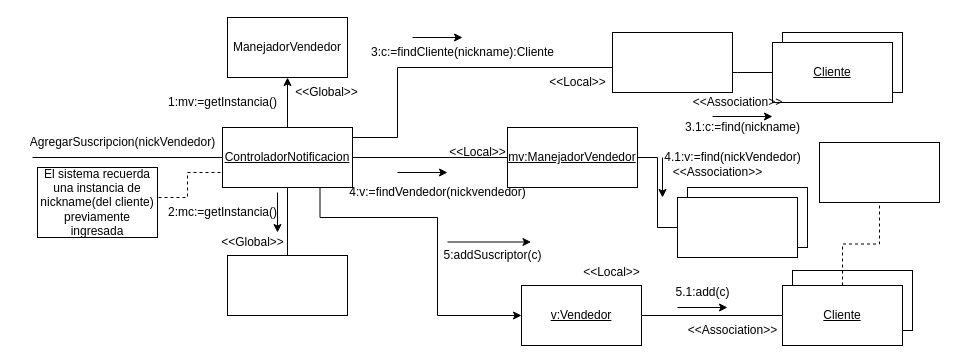
Image size: 957x363. Some labels were removed from this diagram. Here are the shapes that lost their labels. From the top down, the centre of each, then its label:
the point at 672,62: mc:ManejadorCliente
the point at 879,172: Colección de los clientes suscriptos al vendedor
the point at 737,227: Vendedores
the point at 287,285: ManejadorCliente
